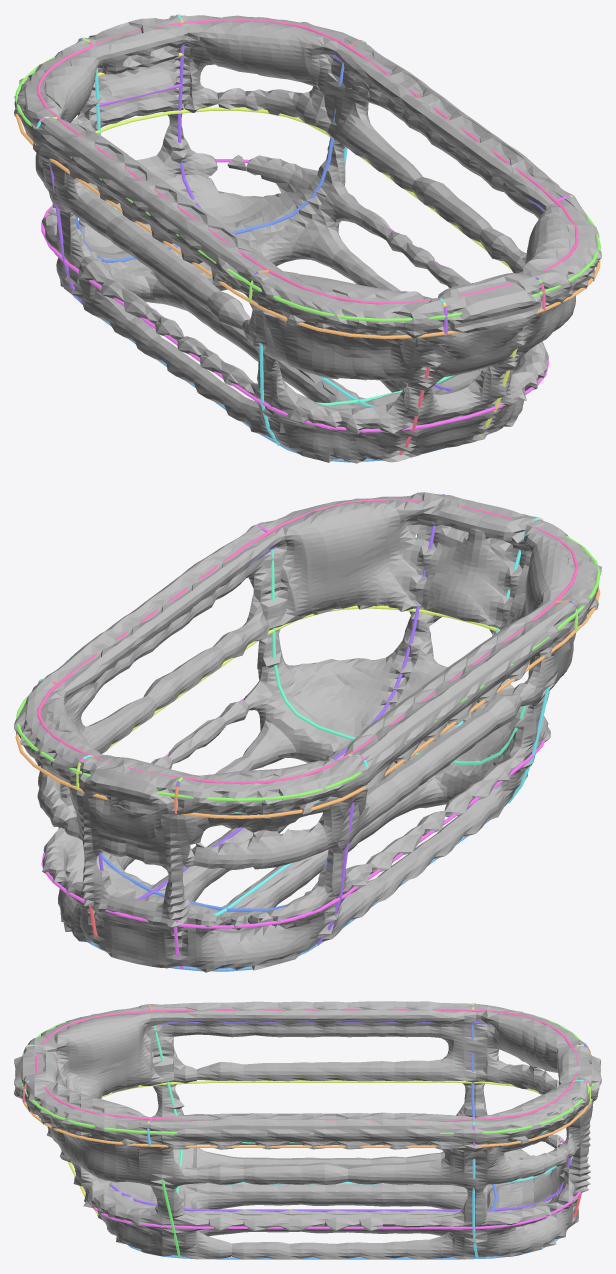
File: flowrep_bathtub.gltf
The picture shows the model from 3 angles, top to bottom: view 1: azimuth 30°, elevation 25°; view 2: azimuth 150°, elevation 25°; view 3: azimuth 270°, elevation 25°; orthographic projection. The views are drawn at different scales.
Size of the model in its own units: 0.4509 by 0.293 by 0.8813.
